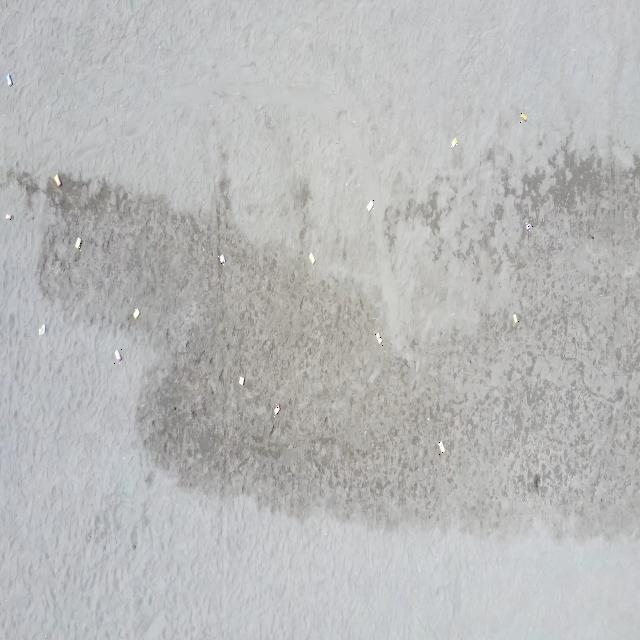Garbage: (52, 173, 60, 187), (512, 312, 519, 326), (375, 332, 382, 346), (131, 307, 139, 319), (437, 440, 444, 453), (272, 404, 280, 415), (449, 136, 457, 147), (520, 111, 527, 123), (115, 349, 121, 363), (5, 72, 12, 84), (308, 252, 315, 263), (37, 324, 44, 335), (75, 236, 80, 249), (367, 199, 372, 212), (4, 212, 12, 220), (238, 375, 243, 384), (526, 223, 532, 230), (219, 254, 223, 263)
